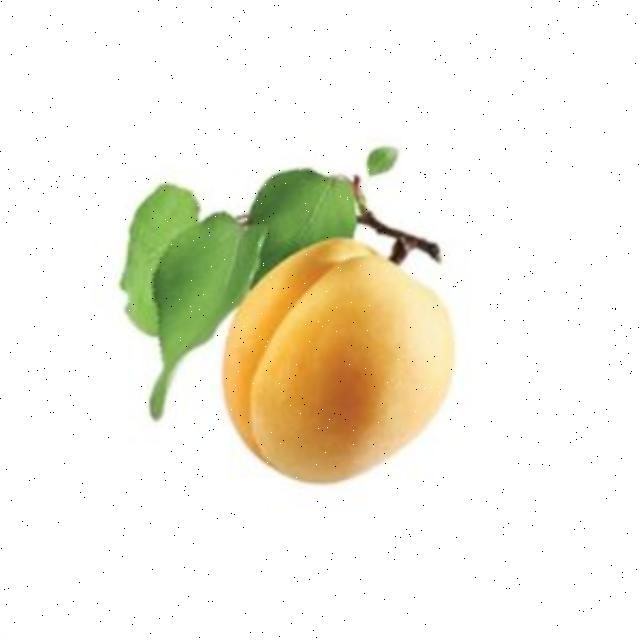kayisi: (218, 243, 457, 491)
kayisi yapragi: (127, 202, 265, 432), (228, 175, 354, 301), (113, 180, 197, 329), (368, 143, 397, 178)
